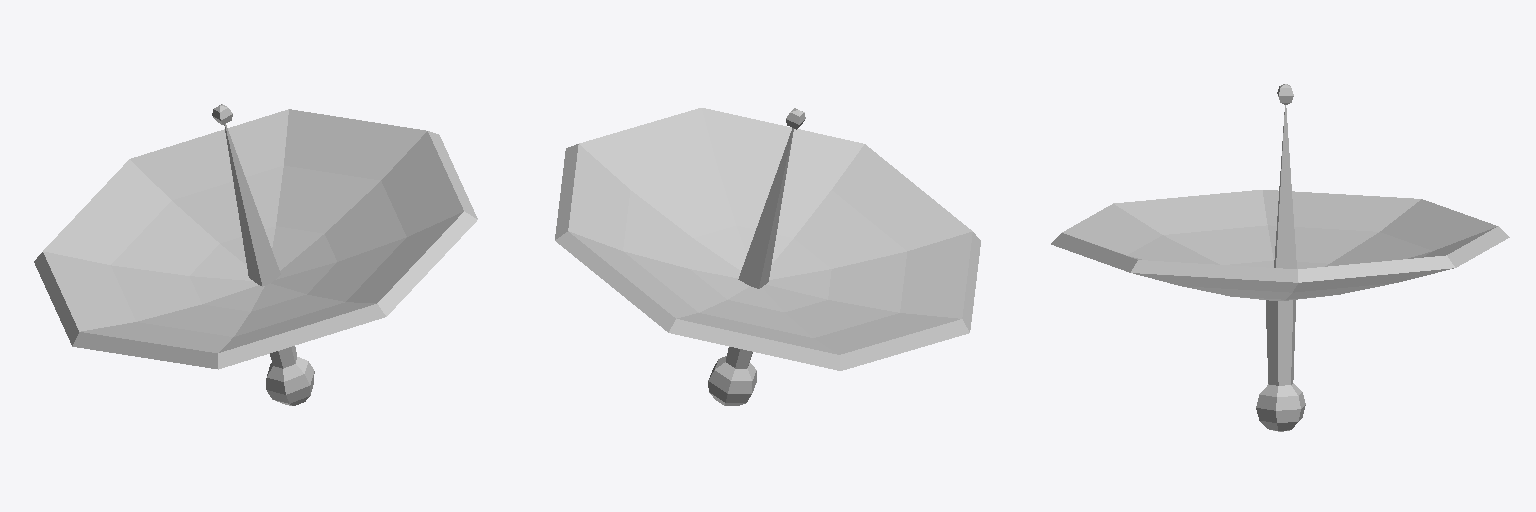
Rendered from tower_dish.obj.
3 renders of one model, left to right at view 1: azimuth 30°, elevation 25°; view 2: azimuth 150°, elevation 25°; view 3: azimuth 270°, elevation 25°, orthographic.
Visible parts, largest first — view 1: dish; view 2: dish; view 3: dish.
Boxes of the visible parts, box(x1,y1,x2,y2) form: dish: box(34, 104, 477, 405); dish: box(555, 108, 980, 405); dish: box(1051, 84, 1509, 431).
Bounding box in the file's own units: 77.21 × 59.8 × 79.74.